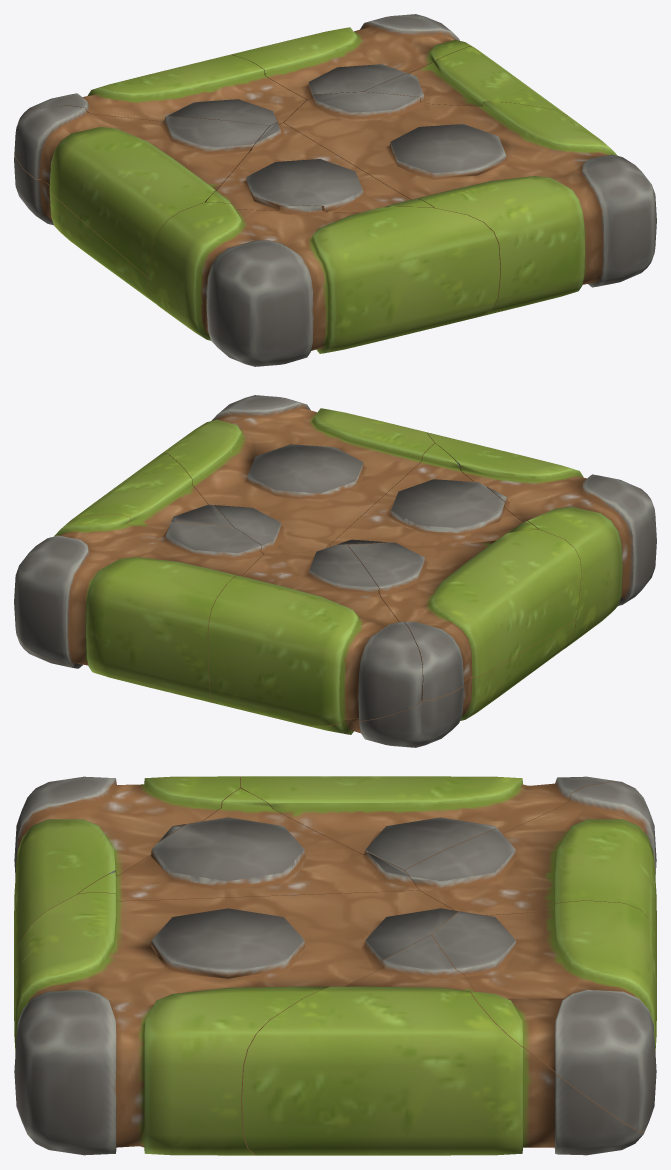
The model's file is arena block 2 broken.fbx.
3 views of the same model, one above another, from view 1: azimuth 30°, elevation 25°; view 2: azimuth 150°, elevation 25°; view 3: azimuth 270°, elevation 25° (orthographic). The views are drawn at different scales.
Parts seen in each view (by area): view 1: arena block 2 lp.002_cell.003, arena block 2 lp.002_cell.004, arena block 2 lp.002_cell.002, arena block 2 lp.002_cell.005, arena block 2 lp.002_cell, arena block 2 lp.002_cell.007, arena block 2 lp.002_cell.001, arena block 2 lp.002_cell.006; view 2: arena block 2 lp.002_cell.005, arena block 2 lp.002_cell, arena block 2 lp.002_cell.004, arena block 2 lp.002_cell.002, arena block 2 lp.002_cell.003, arena block 2 lp.002_cell.007, arena block 2 lp.002_cell.006, arena block 2 lp.002_cell.001; view 3: arena block 2 lp.002_cell.004, arena block 2 lp.002_cell.001, arena block 2 lp.002_cell.005, arena block 2 lp.002_cell, arena block 2 lp.002_cell.002, arena block 2 lp.002_cell.007, arena block 2 lp.002_cell.003.
Boxes of the visible parts, <box> form: arena block 2 lp.002_cell.003: <box>147,202,500,366</box>; arena block 2 lp.002_cell.004: <box>284,92,656,315</box>; arena block 2 lp.002_cell.002: <box>14,106,269,277</box>; arena block 2 lp.002_cell.005: <box>225,14,471,99</box>; arena block 2 lp.002_cell: <box>16,54,306,127</box>; arena block 2 lp.002_cell.007: <box>206,122,433,212</box>; arena block 2 lp.002_cell.001: <box>363,46,567,115</box>; arena block 2 lp.002_cell.006: <box>14,156,156,304</box>; arena block 2 lp.002_cell.005: <box>14,514,263,703</box>; arena block 2 lp.002_cell: <box>208,545,422,725</box>; arena block 2 lp.002_cell.004: <box>163,395,434,554</box>; arena block 2 lp.002_cell.002: <box>348,529,581,700</box>; arena block 2 lp.002_cell.003: <box>424,431,656,648</box>; arena block 2 lp.002_cell.007: <box>327,443,538,548</box>; arena block 2 lp.002_cell.006: <box>305,621,575,747</box>; arena block 2 lp.002_cell.001: <box>15,453,232,668</box>; arena block 2 lp.002_cell.004: <box>14,890,458,1155</box>; arena block 2 lp.002_cell.001: <box>242,935,644,1155</box>; arena block 2 lp.002_cell.005: <box>432,900,656,1131</box>; arena block 2 lp.002_cell: <box>404,781,656,964</box>; arena block 2 lp.002_cell.002: <box>240,776,615,871</box>; arena block 2 lp.002_cell.007: <box>78,788,419,901</box>; arena block 2 lp.002_cell.003: <box>14,776,240,989</box>.
Bounding box in the file's own units: 200 × 49.89 × 200.
